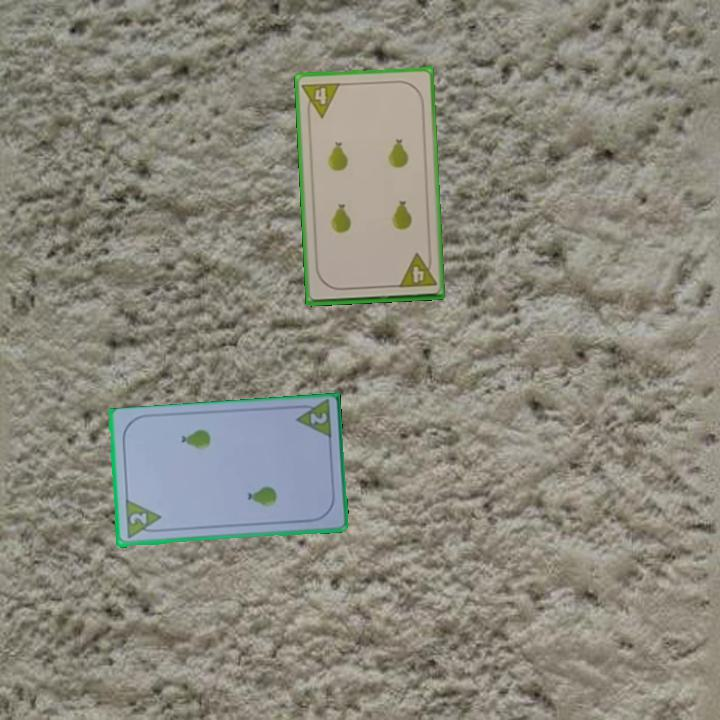2p: (290, 398, 334, 442), (126, 509, 150, 528)
4p: (299, 79, 343, 121), (395, 250, 439, 290)
